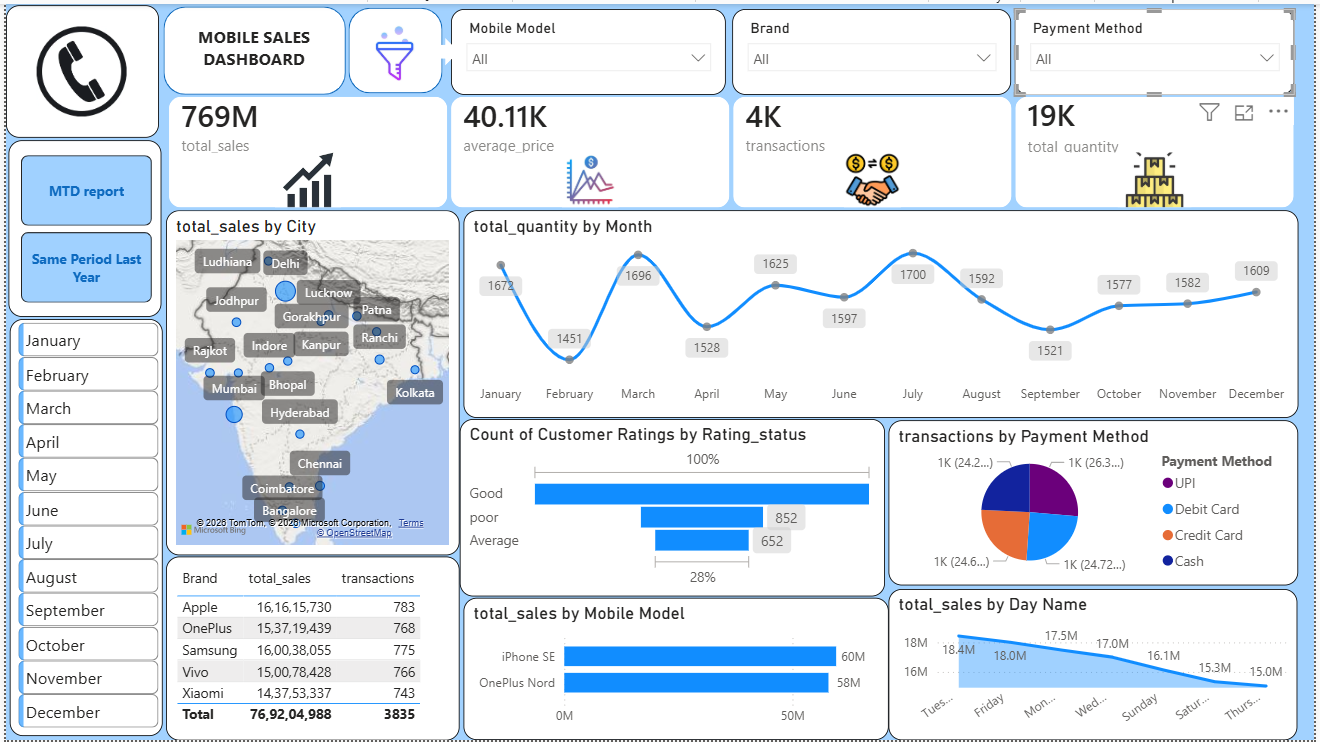

The page's visual inventory and layout, read from the dashboard file:
{"tool":"powerbi","page":{"name":"DASHBOARD","canvas":[1280,720],"ordinal":0},"visuals":[{"type":"shape","box":[3.7,307.7,149.6,408.3],"z":0},{"type":"shape","box":[0,1.2,149.6,130],"z":1000},{"type":"shape","box":[2.5,133.6,149.6,172.9],"z":2000},{"type":"cardVisual","fields":{"Data":["sales_data.total_sales","sales_data.average_price","sales_data.transactions","sales_data.total_quantity"]},"box":[128.4,66,1151.9,159],"z":3000},{"type":"listSlicer","fields":{"Values":["custom_calender.date.Variation.Date Hierarchy.Month"]},"box":[7.4,306.5,160.6,413.2],"z":4000},{"type":"slicer","fields":{"Values":["sales_data.Mobile Model"]},"box":[435,5.5,269,83.7],"z":5000},{"type":"slicer","fields":{"Values":["sales_data.Brand"]},"box":[710.8,5.5,273.1,83.7],"z":6000},{"type":"shape","box":[334.8,4.1,91.9,83.7],"z":7000},{"type":"slicer","fields":{"Values":["sales_data.Payment Method"]},"box":[986.8,4.9,273.9,84.4],"z":8000},{"type":"image","box":[334.8,16.5,90.6,64.5],"z":9000},{"type":"shape","box":[403.4,32.9,39.8,27.4],"z":10000},{"type":"shape","box":[153.7,2.7,178.4,86.4],"z":11000},{"type":"textbox","box":[163.3,16.5,157.8,59],"z":12000},{"type":"map","fields":{"Category":["sales_data.City"],"Size":["sales_data.total_sales"]},"box":[156.5,201.8,287.4,337.5],"z":13000},{"type":"lineChart","fields":{"Y":["sales_data.total_quantity"],"Category":["custom_calender.date.Variation.Date Hierarchy.Month"]},"box":[447.6,201.8,816.9,203],"z":14000},{"type":"image","box":[19.6,22.1,109.1,88.3],"z":15000},{"type":"funnel","fields":{"Category":["sales_data.Customer_ratings"],"Y":["CountNonNull(sales_data.Customer Ratings)"]},"box":[443.9,406,415.8,173.6],"z":16000},{"type":"pieChart","fields":{"Y":["sales_data.transactions"],"Category":["sales_data.Payment Method"]},"box":[863.3,407.2,401.1,161.4],"z":17000},{"type":"clusteredBarChart","fields":{"Y":["sales_data.total_sales"],"Category":["sales_data.Mobile Model"]},"box":[447.6,580.8,415.8,139.4],"z":18000},{"type":"areaChart","fields":{"Y":["sales_data.total_sales"],"Category":["custom_calender.Day Name"]},"box":[863.3,572,399.9,148],"z":19000},{"type":"tableEx","fields":{"Values":["sales_data.Brand","sales_data.total_sales","sales_data.transactions"]},"box":[156.5,540.5,287.4,179.8],"z":20000},{"type":"pageNavigator","box":[14.7,148,128.4,144.3],"z":21001}]}

Visuals, with their boxes in screenshot pixels (x1, y1, x2, y2), scaled from the page's 1280x720 canvas onto the 1320x742 screenshot:
shape: crop(4, 317, 158, 738)
shape: crop(0, 1, 154, 135)
shape: crop(3, 138, 157, 316)
cardVisual - sales_data.total_sales x sales_data.average_price: crop(132, 68, 1319, 232)
listSlicer - custom_calender.date.Variation.Date Hierarchy.Month: crop(8, 316, 173, 741)
slicer - sales_data.Mobile Model: crop(449, 6, 726, 92)
slicer - sales_data.Brand: crop(733, 6, 1015, 92)
shape: crop(345, 4, 440, 90)
slicer - sales_data.Payment Method: crop(1018, 5, 1300, 92)
image: crop(345, 17, 439, 83)
shape: crop(416, 34, 457, 62)
shape: crop(159, 3, 342, 92)
textbox: crop(168, 17, 331, 78)
map - sales_data.City x sales_data.total_sales: crop(161, 208, 458, 556)
lineChart - sales_data.total_quantity x custom_calender.date.Variation.Date Hierarchy.Month: crop(462, 208, 1304, 417)
image: crop(20, 23, 133, 114)
funnel - sales_data.Customer_ratings x CountNonNull(sales_data.Customer Ratings): crop(458, 418, 887, 597)
pieChart - sales_data.transactions x sales_data.Payment Method: crop(890, 420, 1304, 586)
clusteredBarChart - sales_data.total_sales x sales_data.Mobile Model: crop(462, 599, 890, 741)
areaChart - sales_data.total_sales x custom_calender.Day Name: crop(890, 589, 1303, 741)
tableEx - sales_data.Brand x sales_data.total_sales: crop(161, 557, 458, 741)
pageNavigator: crop(15, 153, 148, 301)
